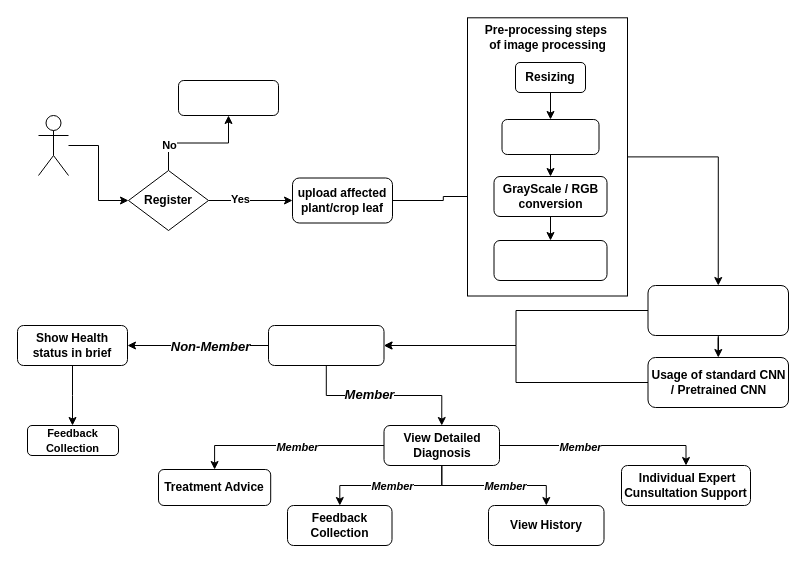
Image size: 806x563. Some labels were removed from this diagram. Here are the shapes that lost their labels. From the top down, the centre of each, then its label:
At (x=228, y=98): "Sign Up / Login".
At (x=53, y=145): "User".
At (x=550, y=136): "Normalization".
At (x=550, y=260): "Noise Removal / Reduction".
At (x=717, y=310): "Using Deep Learning Algorithm for prediction".
At (x=326, y=345): "Plant/Crop Health Status".
